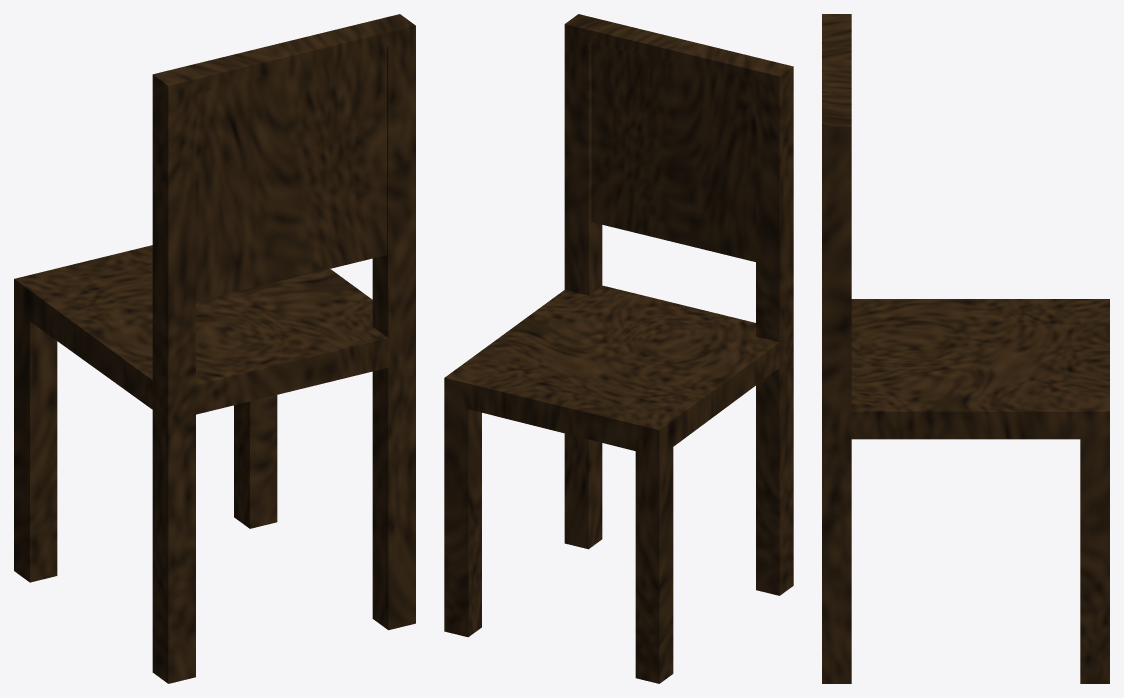
Rendered from Chair.fbx.
The picture shows the model from 3 angles, left to right: view 1: azimuth 30°, elevation 25°; view 2: azimuth 150°, elevation 25°; view 3: azimuth 270°, elevation 25°; orthographic projection. The views are drawn at different scales.
Parts seen in each view (by area): view 1: Chair_Baked; view 2: Chair_Baked; view 3: Chair_Baked.
Part boxes in pixels (left/top/right/bottom): Chair_Baked: left=14, top=14, right=415, bottom=683; Chair_Baked: left=444, top=14, right=793, bottom=683; Chair_Baked: left=822, top=14, right=1109, bottom=683.
Bounding box in the file's own units: 45 × 104 × 48.61.
